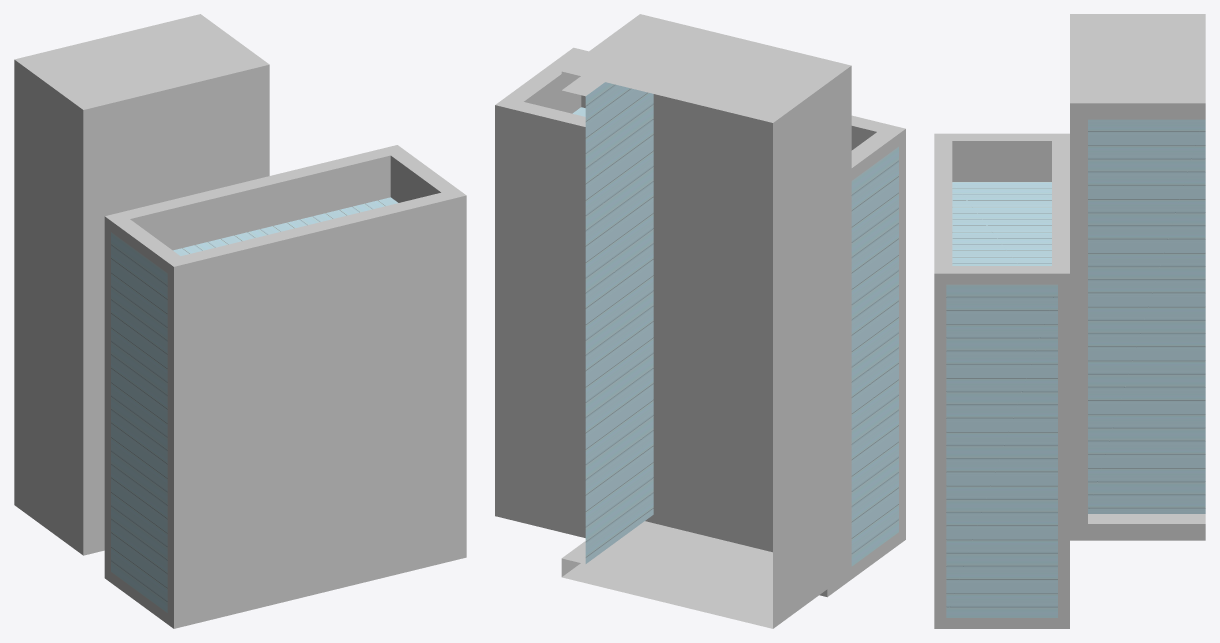
The picture shows the model from 3 angles, left to right: view 1: azimuth 30°, elevation 25°; view 2: azimuth 150°, elevation 25°; view 3: azimuth 270°, elevation 25°; orthographic projection. The views are drawn at different scales.
Visible parts, largest first — view 1: 学术交流用房; view 2: 学术交流用房; view 3: 学术交流用房.
Boxes of the visible parts, x1=… form: 学术交流用房: x1=14, y1=14, x2=466, y2=628; 学术交流用房: x1=495, y1=14, x2=905, y2=628; 学术交流用房: x1=934, y1=14, x2=1205, y2=628.
Bounding box in the file's own units: 11.8 × 17 × 9.
2 materials, 1 textured.
